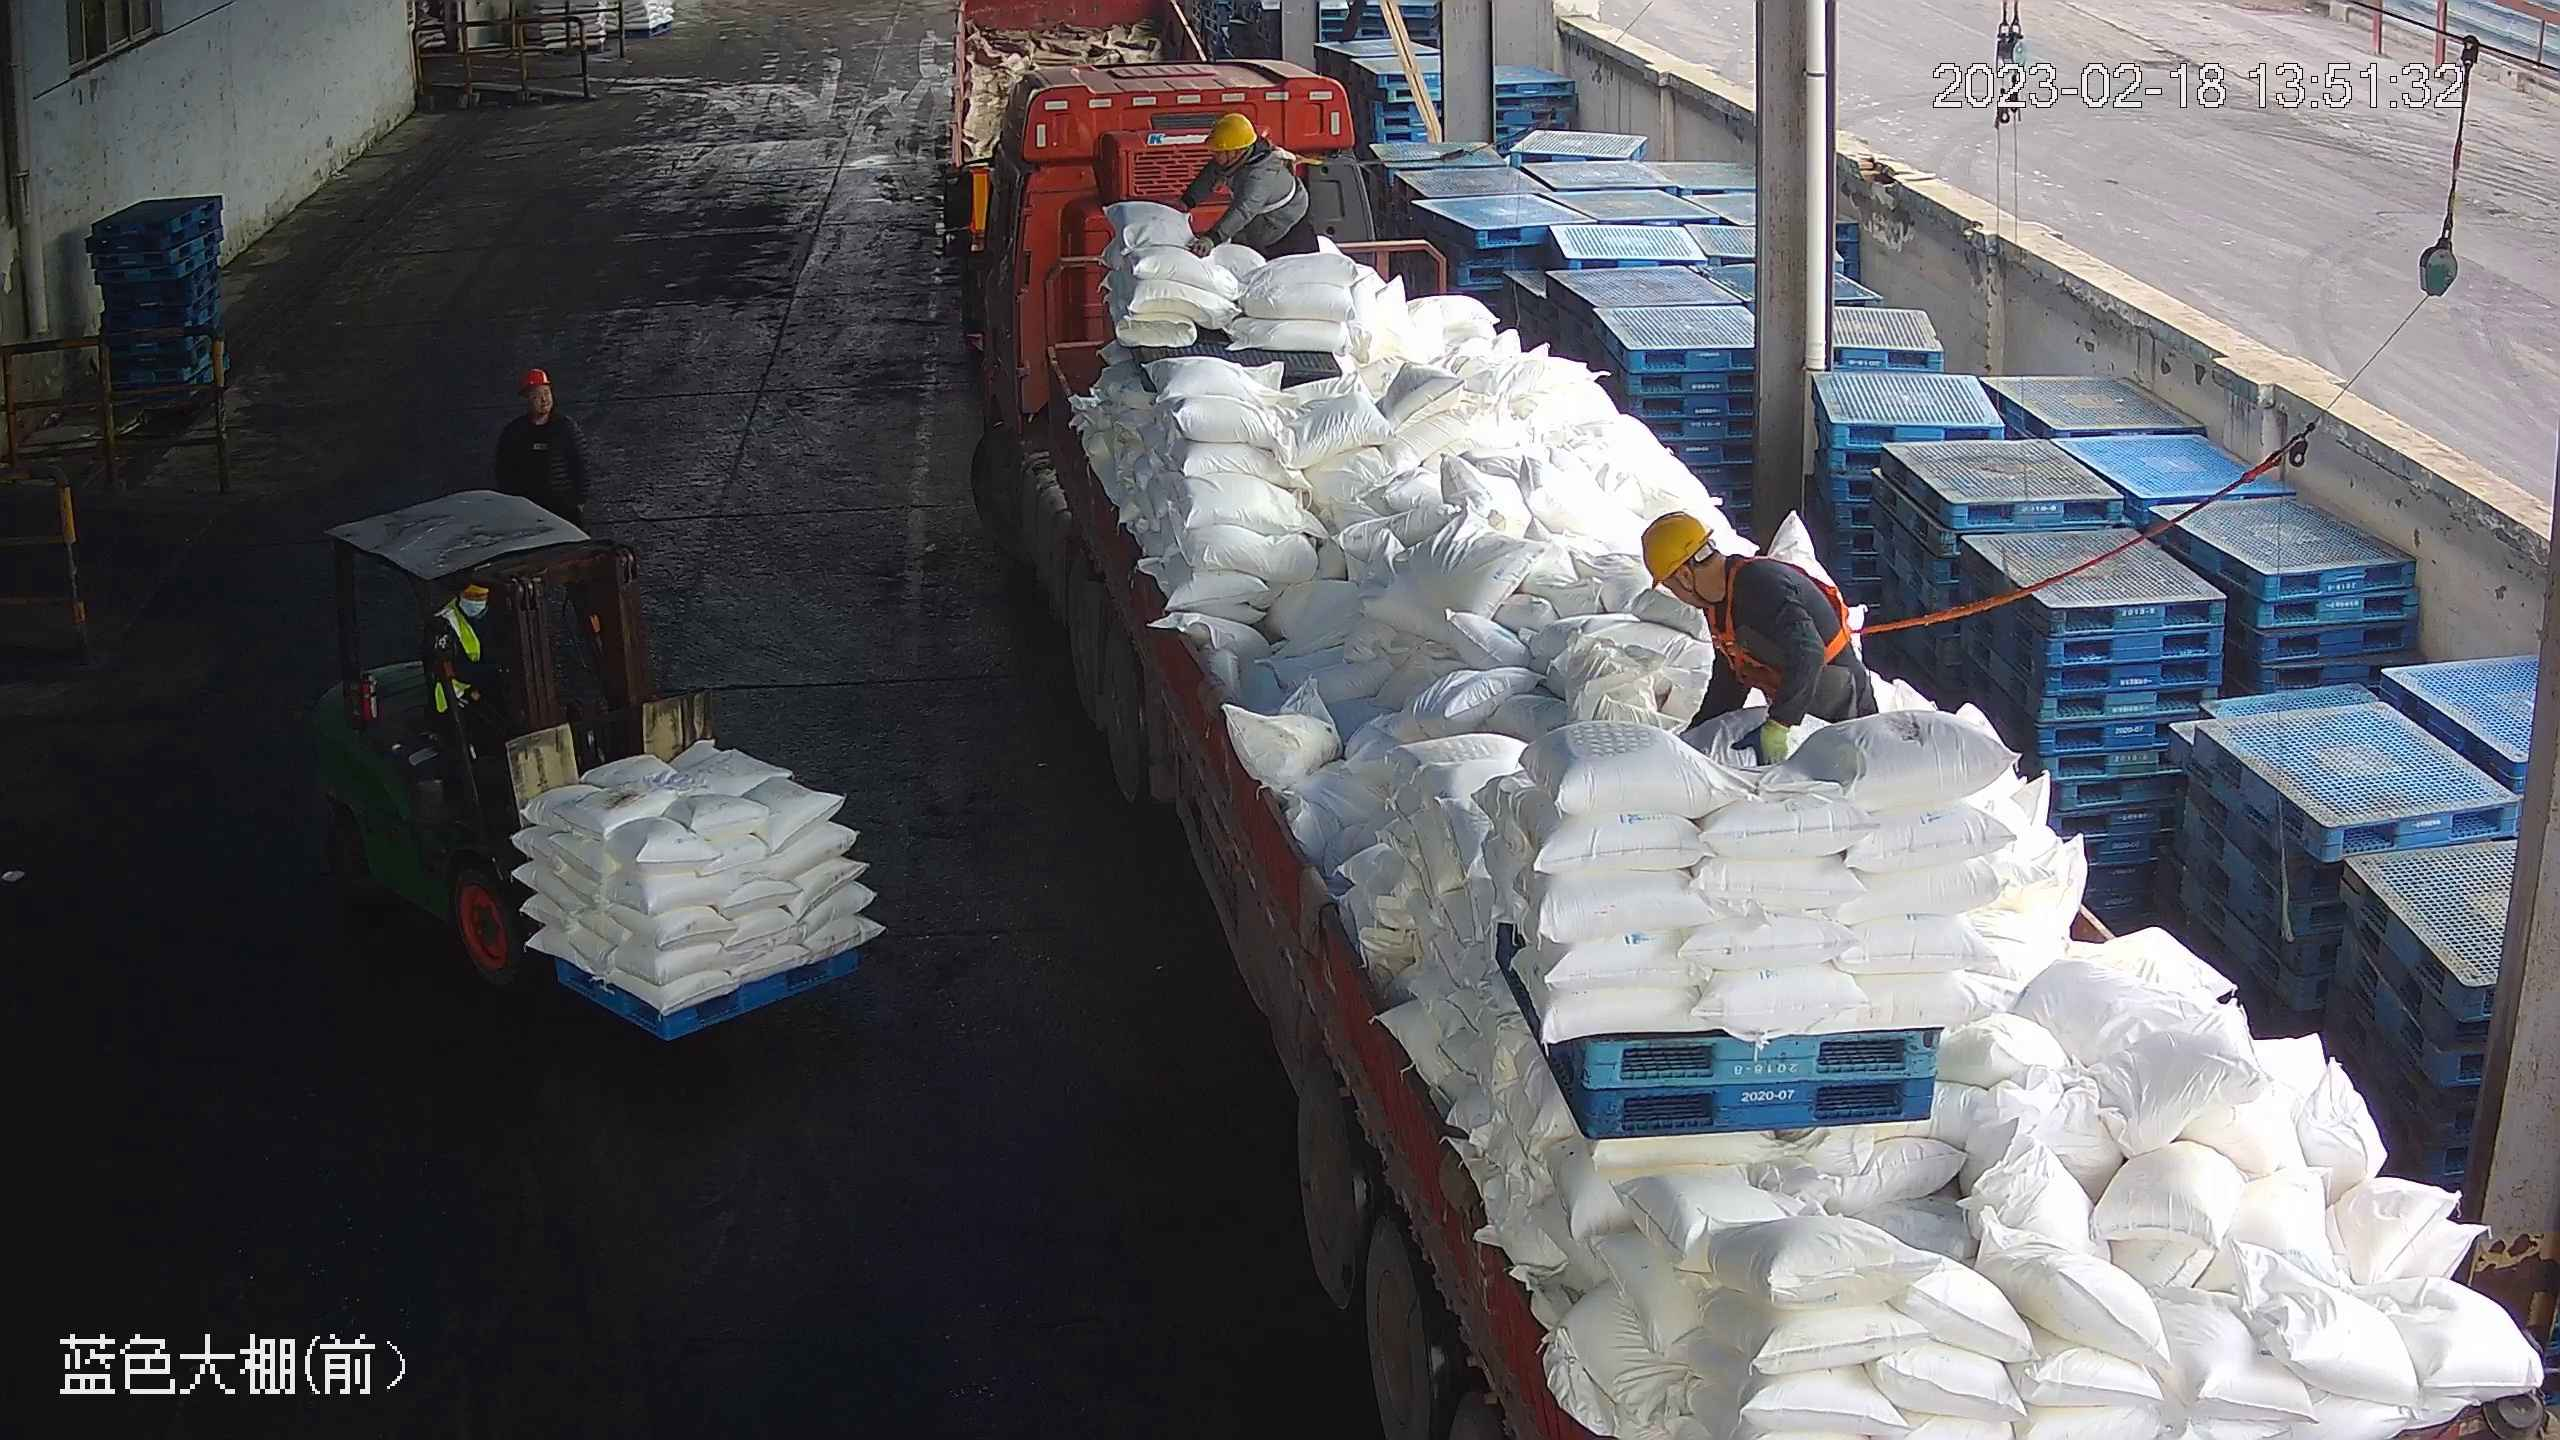belt: (1703, 562, 1893, 694), (1251, 142, 1330, 215)
head: (1640, 508, 1796, 656), (491, 369, 588, 466), (1196, 115, 1291, 194)
helmet: (1639, 510, 1712, 586), (1203, 115, 1257, 150), (513, 367, 552, 394)
people: (1639, 508, 1888, 769), (407, 582, 561, 816), (1159, 111, 1322, 264)
truck: (939, 50, 2560, 1440)
